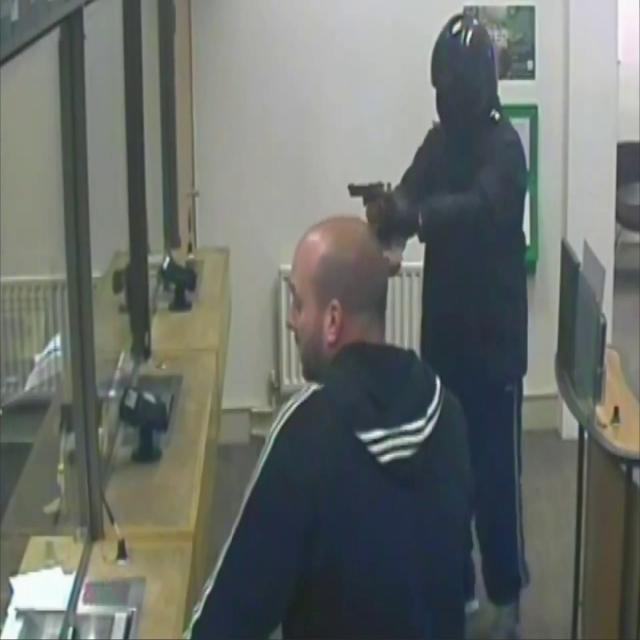gun: (348, 180, 392, 242)
